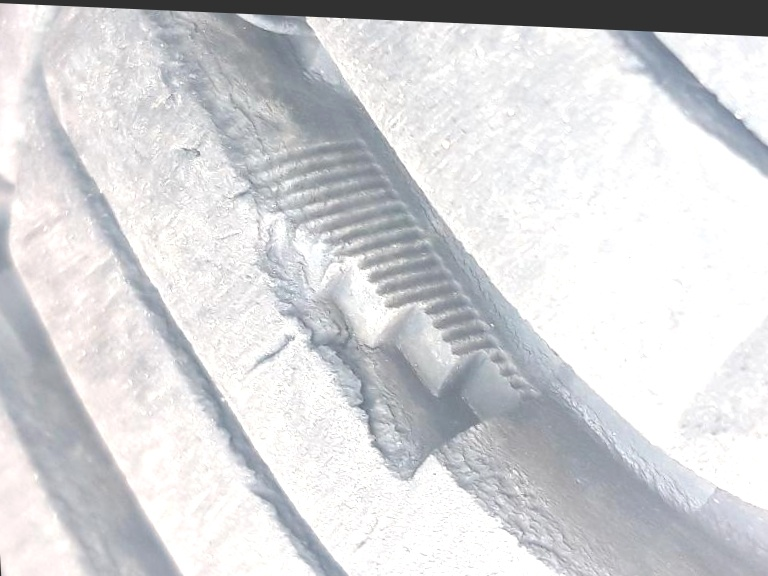temoin:80: (193, 123, 557, 500)
